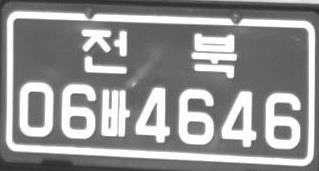0: (19, 80, 54, 137)
4: (221, 89, 256, 148), (135, 87, 170, 143)
6: (264, 91, 301, 149), (178, 88, 215, 145), (60, 82, 96, 139)
바: (98, 89, 131, 138)
전북_D: (80, 27, 238, 79)
